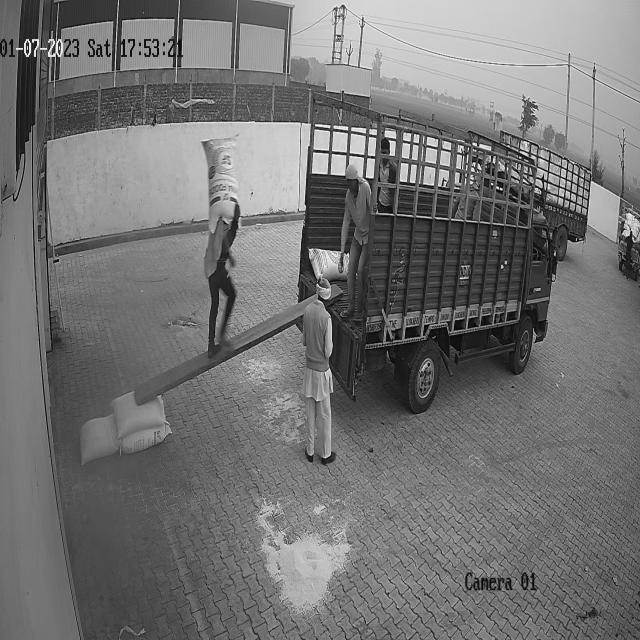sack: (200, 136, 238, 234), (111, 390, 165, 438), (79, 412, 119, 462), (121, 422, 171, 454), (308, 246, 350, 284)
